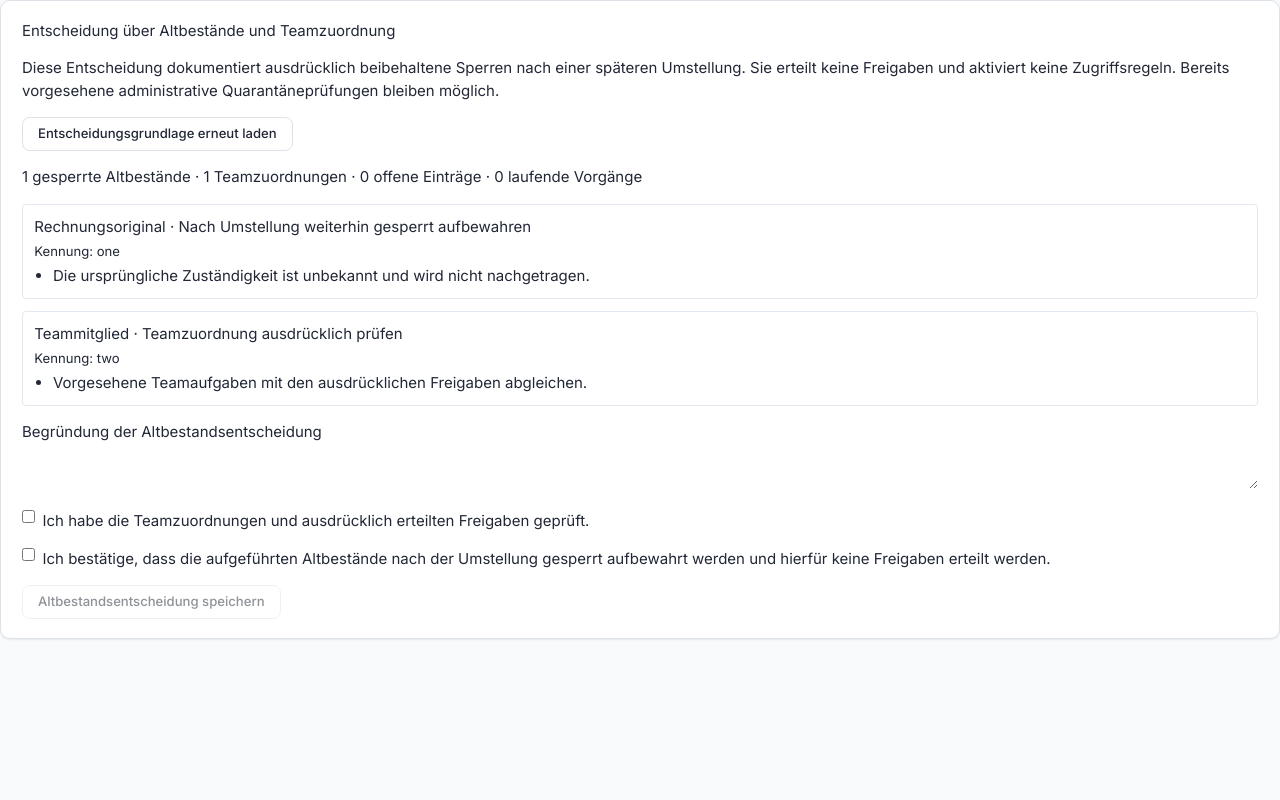
Test: never treats receipt replay as a verified current assessment
expect the heading "Rechnungsoriginal · Nach Umstellung" is shown: met, box [34,217,531,236]
Type "Keep restricted legacy source" into the text box labelled "Begründung der Altbestandsentscheidung" at (640, 466), box [22,444,1258,489]
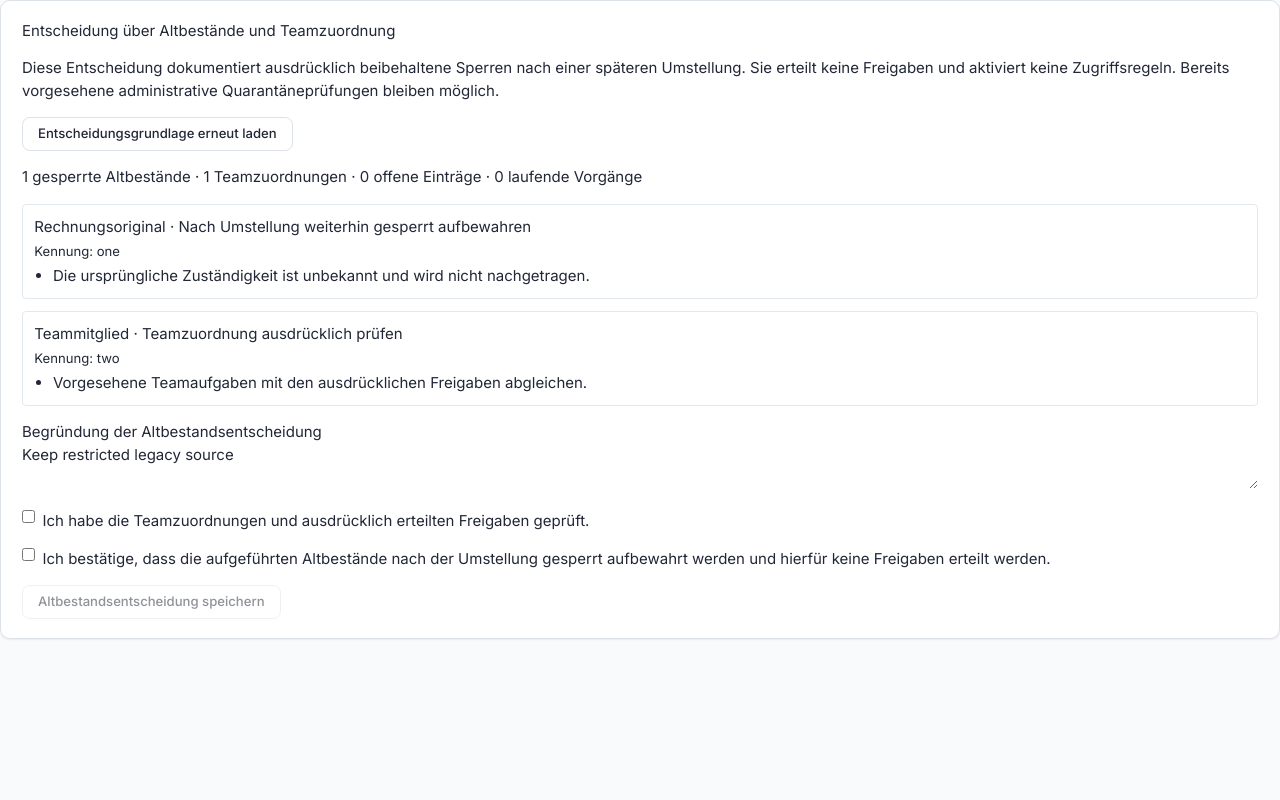
Click the 1st checkbox at (28, 517), box [22,510,35,523]
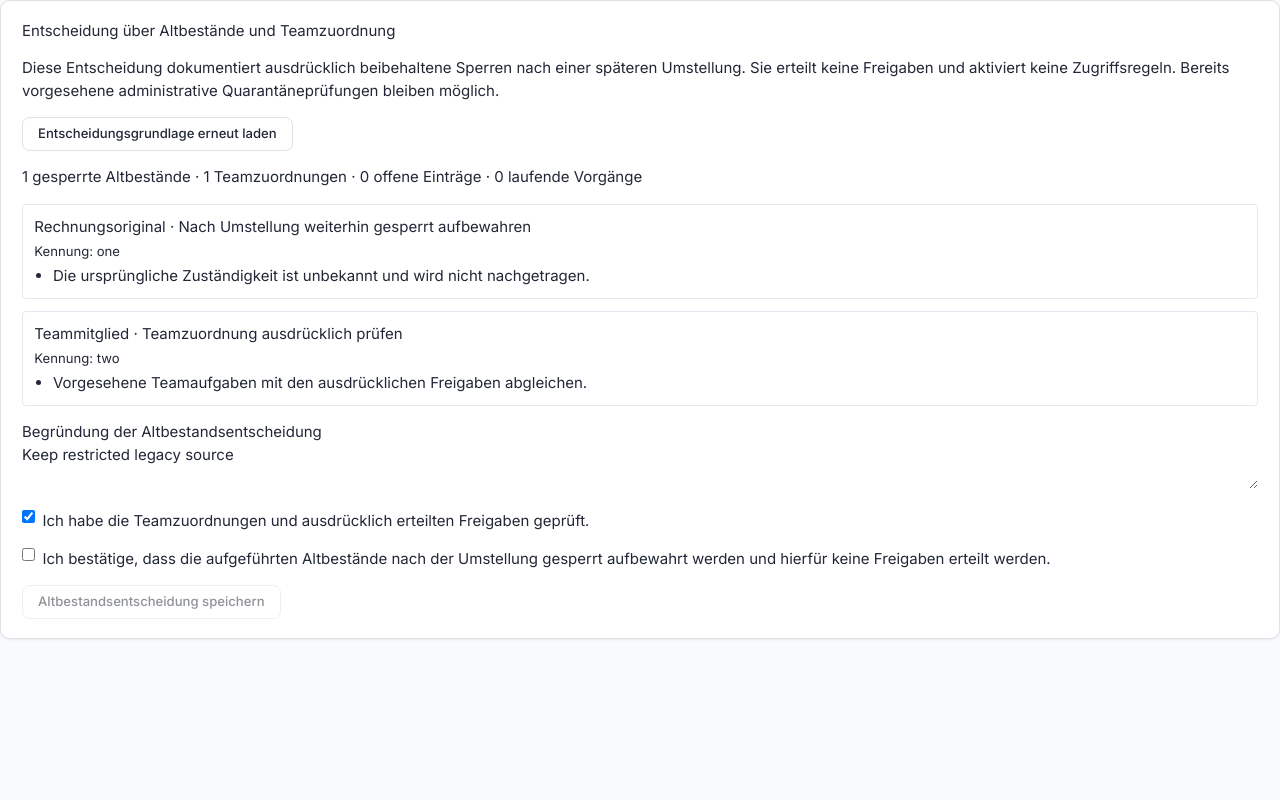
Click the 2nd checkbox at (28, 554), box [22,548,35,561]
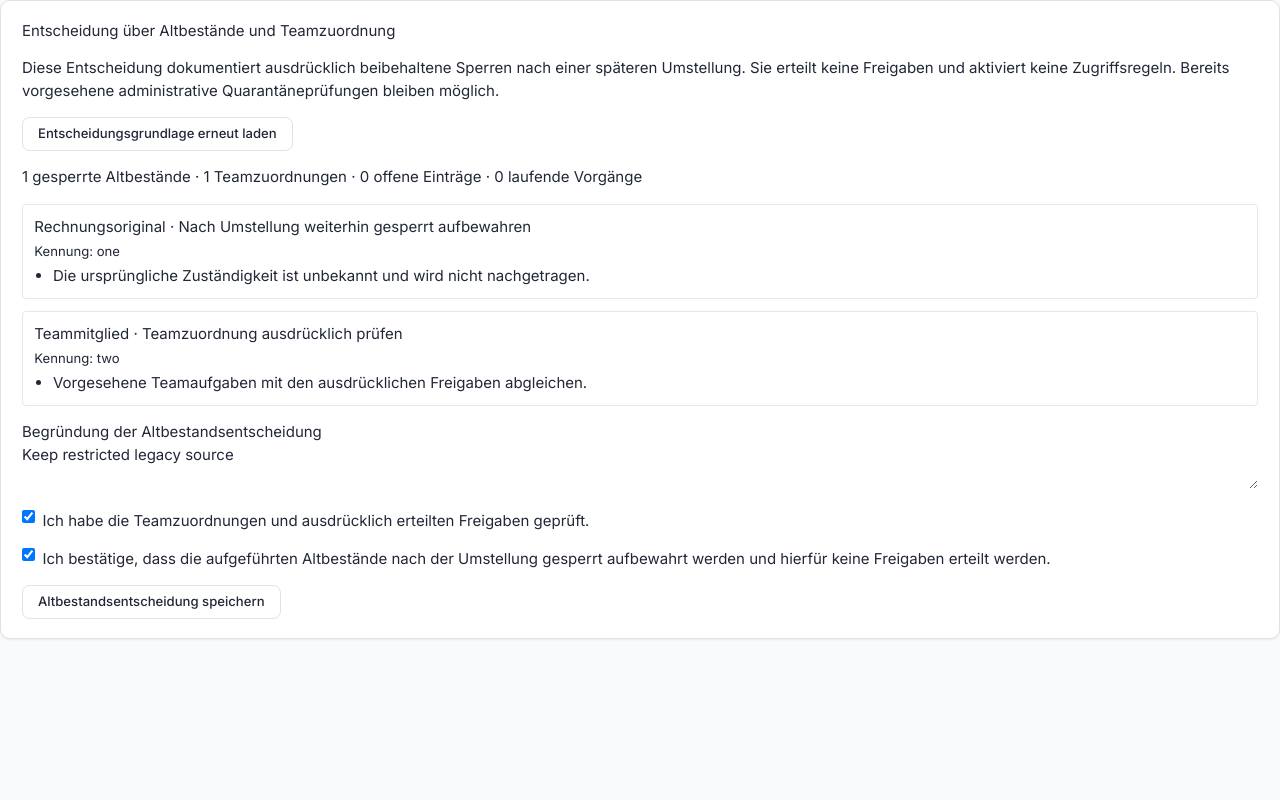
Click the button "Altbestandsentscheidung speichern" at (151, 602), box [22,585,280,619]
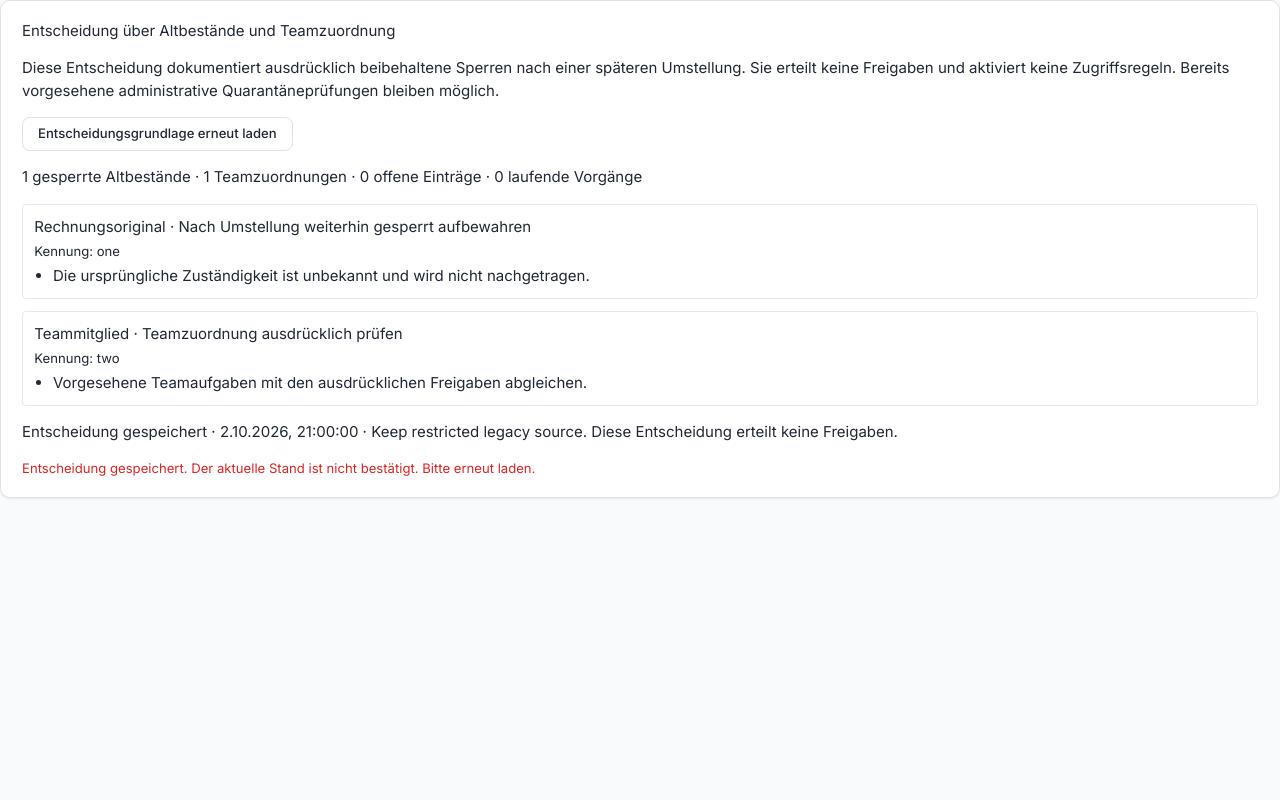
expect the text "Der aktuelle Stand ist nicht bestätigt" is shown: met, box [22,460,535,476]
expect the button "Altbestandsentscheidung speichern" is gone: met
